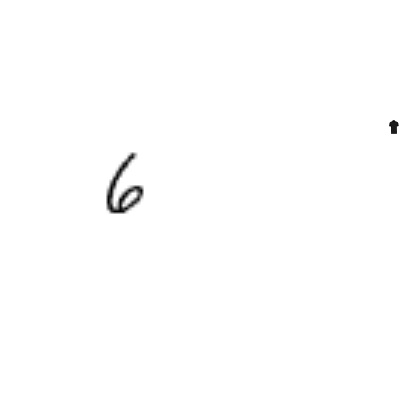6: (80, 147, 164, 231)
T-shirt/top: (387, 120, 401, 134)
